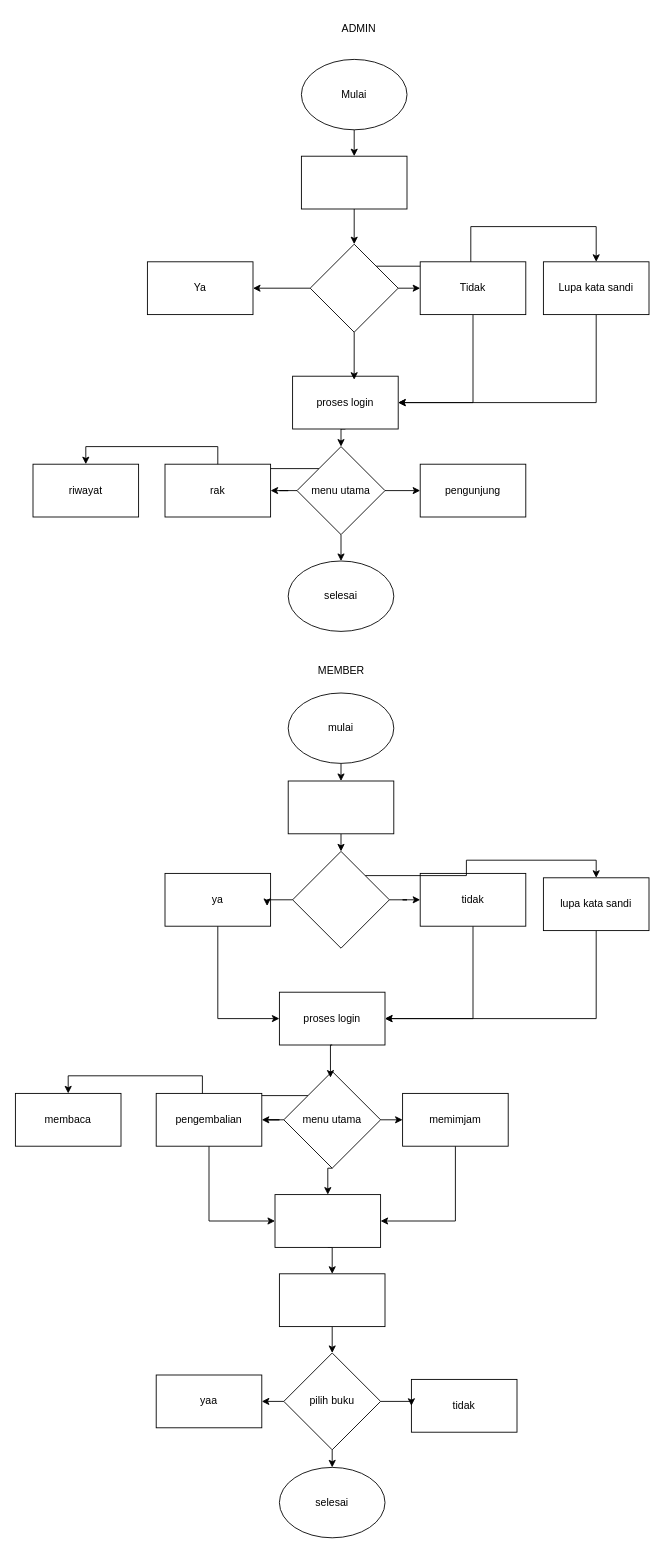
This 664x1553 diagram has some shape labels left out. Each missing label, with the centre of its shape:
hasil pencarian: the point at 332,1300
logi: the point at 340,807
Login: the point at 354,182
mencari buku: the point at 327,1220
terdaftra/tidak: the point at 340,899
Terdaptar/Tidak: the point at 353,287
